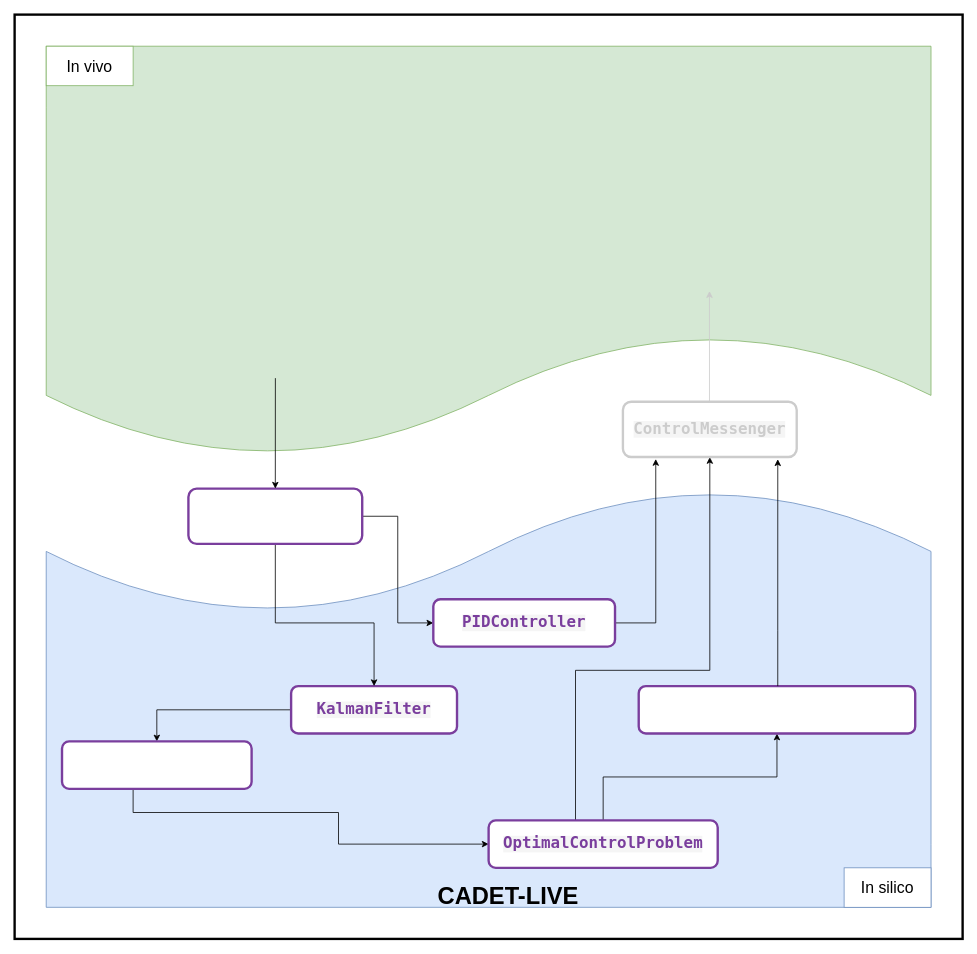
Image size: 977x954. Some labels were removed from this diagram. Each missing label, with the centre of its shape:
"IntegrateProblem" goes at point (156, 765).
"MeasureProvider" goes at point (275, 516).
"ModelPredictiveController" goes at point (776, 709).
